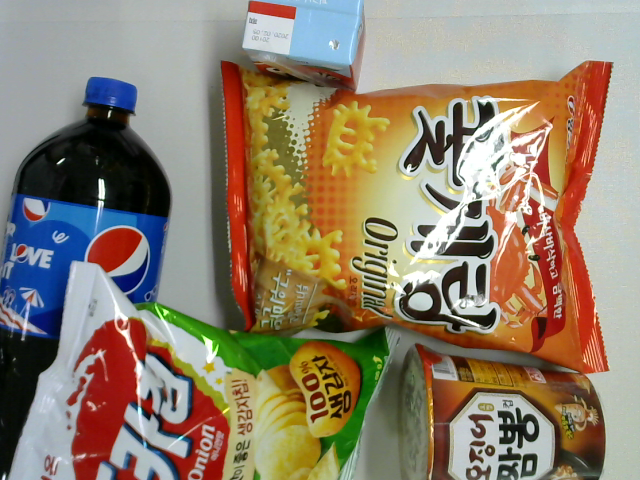Crabrang: (215, 62, 619, 375)
Ojjam: (394, 344, 607, 480)
Pepsi_Cola_1.5L: (1, 76, 172, 479)
Picnic_Apple: (241, 1, 365, 91)
Pocachip_Onion: (8, 261, 405, 480)
